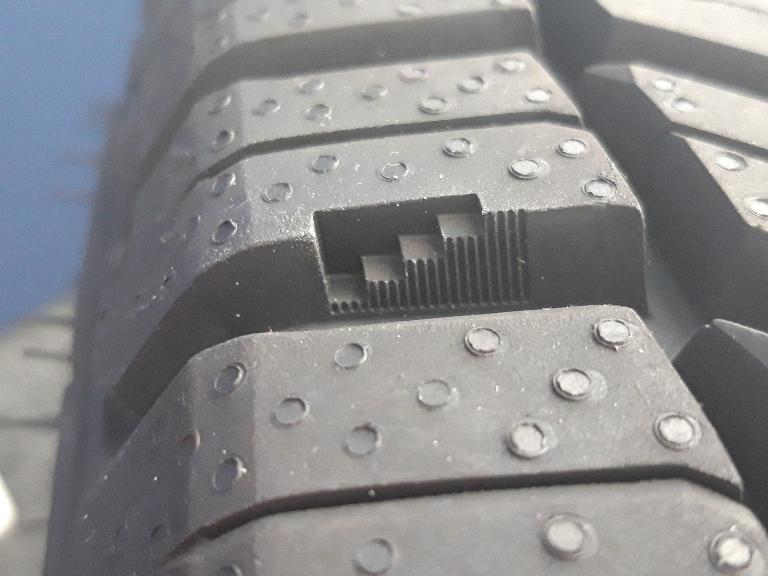temoin:100: (306, 188, 538, 320)
